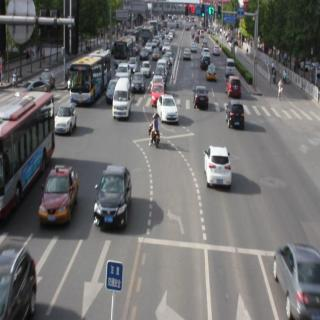BigCar: (3, 74, 54, 208), (77, 42, 108, 100)
Car: (269, 239, 319, 320), (2, 233, 35, 316), (97, 162, 131, 236), (39, 156, 76, 224), (206, 144, 226, 193), (155, 91, 178, 132), (55, 100, 75, 145), (224, 95, 244, 134), (115, 76, 129, 126), (193, 82, 211, 117), (222, 68, 241, 99), (151, 74, 164, 104), (157, 53, 175, 73), (138, 54, 153, 76), (206, 62, 219, 86), (132, 71, 144, 94), (109, 74, 118, 102), (212, 38, 222, 61), (181, 44, 191, 64), (143, 44, 158, 54)
